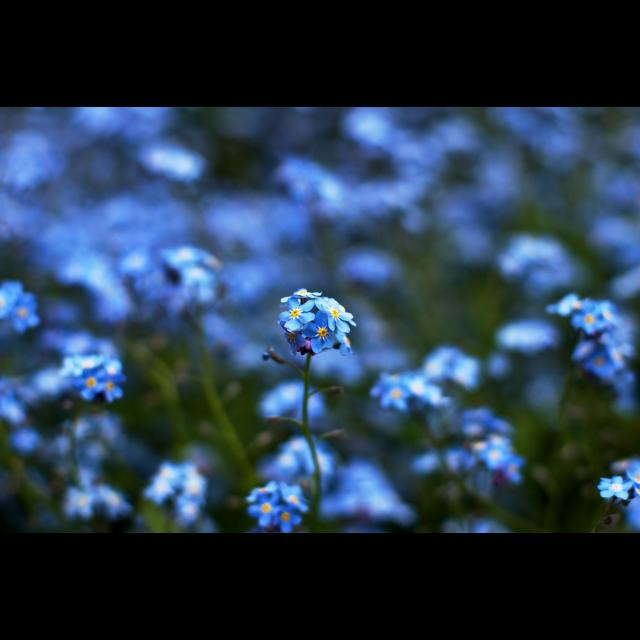Flower: (368, 348, 524, 534), (246, 379, 417, 533), (0, 353, 134, 523), (548, 294, 640, 412), (121, 242, 225, 320), (298, 287, 358, 355), (146, 468, 208, 526), (0, 280, 40, 334), (597, 478, 633, 504), (624, 464, 640, 494)
